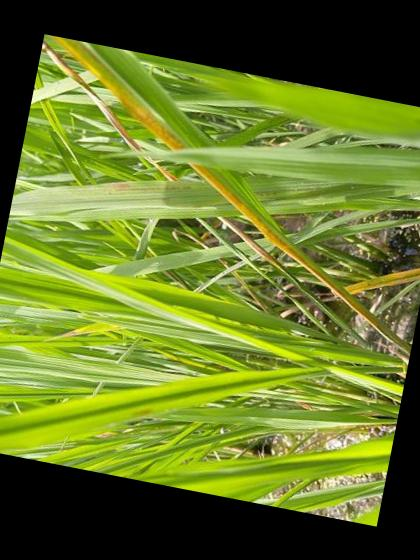Leaf Blight: (192, 164, 410, 351), (56, 36, 185, 151), (41, 37, 143, 153), (219, 217, 279, 267), (146, 157, 177, 181)
